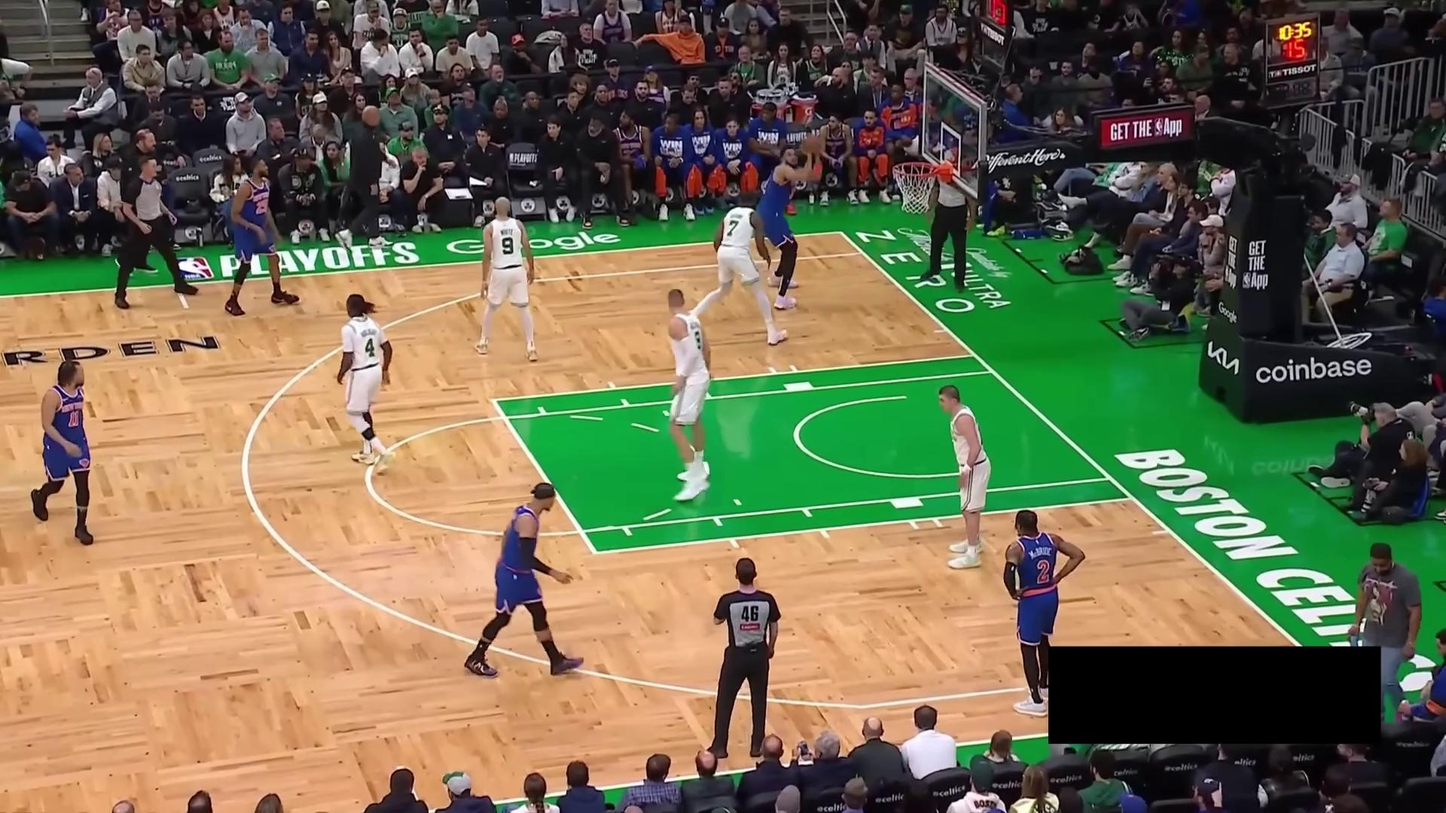ball: (801, 132, 825, 156)
number: (1035, 557, 1051, 582), (726, 219, 741, 237), (501, 237, 515, 255), (364, 336, 375, 356), (694, 332, 704, 353), (68, 410, 79, 428), (254, 201, 267, 216)
player: (463, 481, 587, 679), (1004, 508, 1084, 716), (692, 187, 788, 346), (29, 359, 96, 546), (223, 155, 300, 316), (333, 293, 394, 475), (475, 194, 540, 361), (665, 288, 714, 503), (938, 384, 991, 572)
player-in-possession: (760, 127, 826, 311)
referee: (698, 556, 783, 775), (113, 156, 199, 309), (925, 169, 977, 289)
rim: (893, 161, 938, 179)
